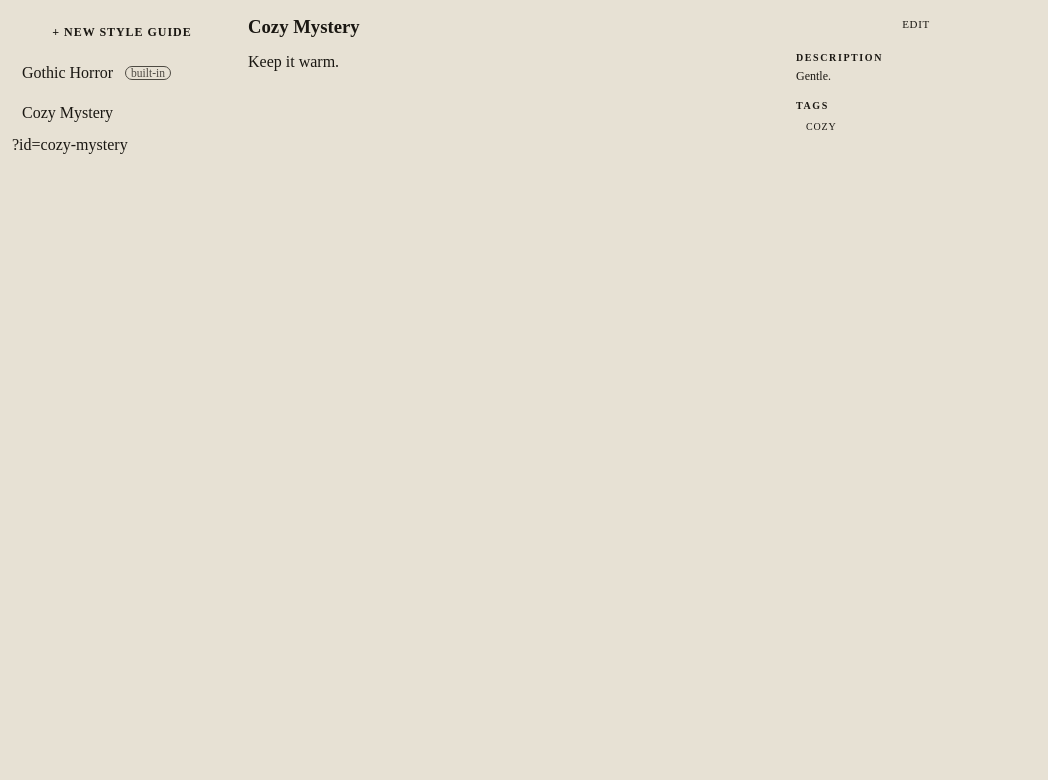
Test: a Cancel reload refusal preserves the style draft and reports the failure
Click the button "Edit".
click(916, 24)  # box x1=796 y1=12 x2=1036 y2=36
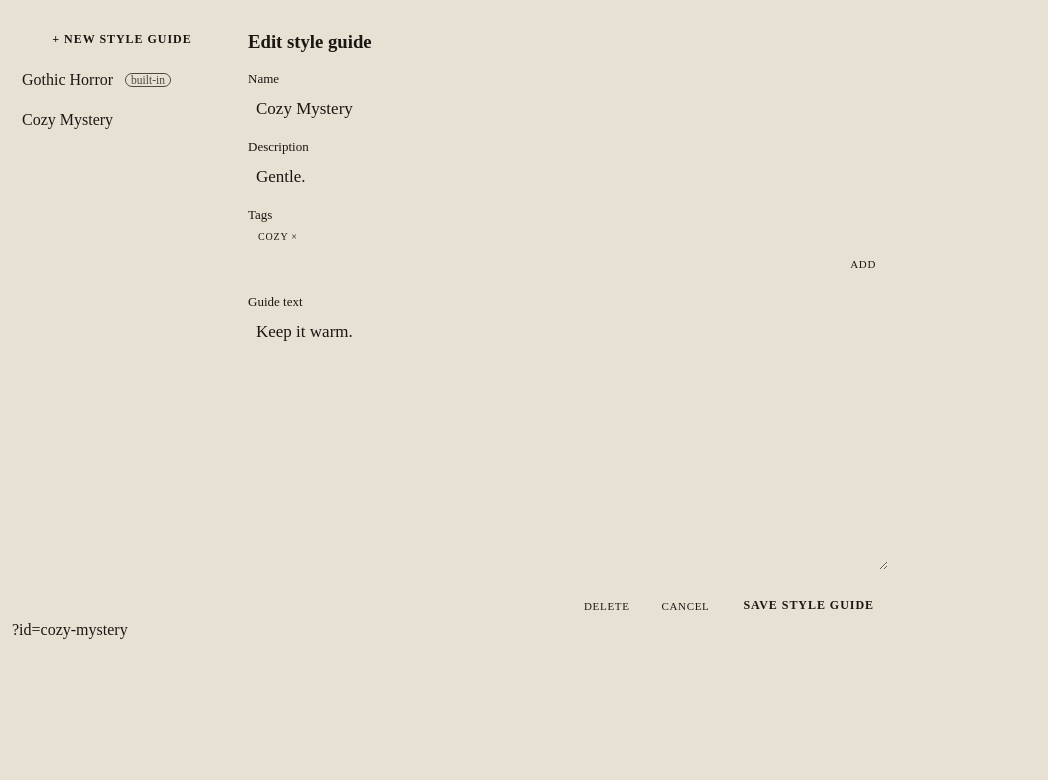
Replace the text in the field labelled "Name" with "Realm draft" at (568, 109), box x1=248 y1=91 x2=888 y2=127
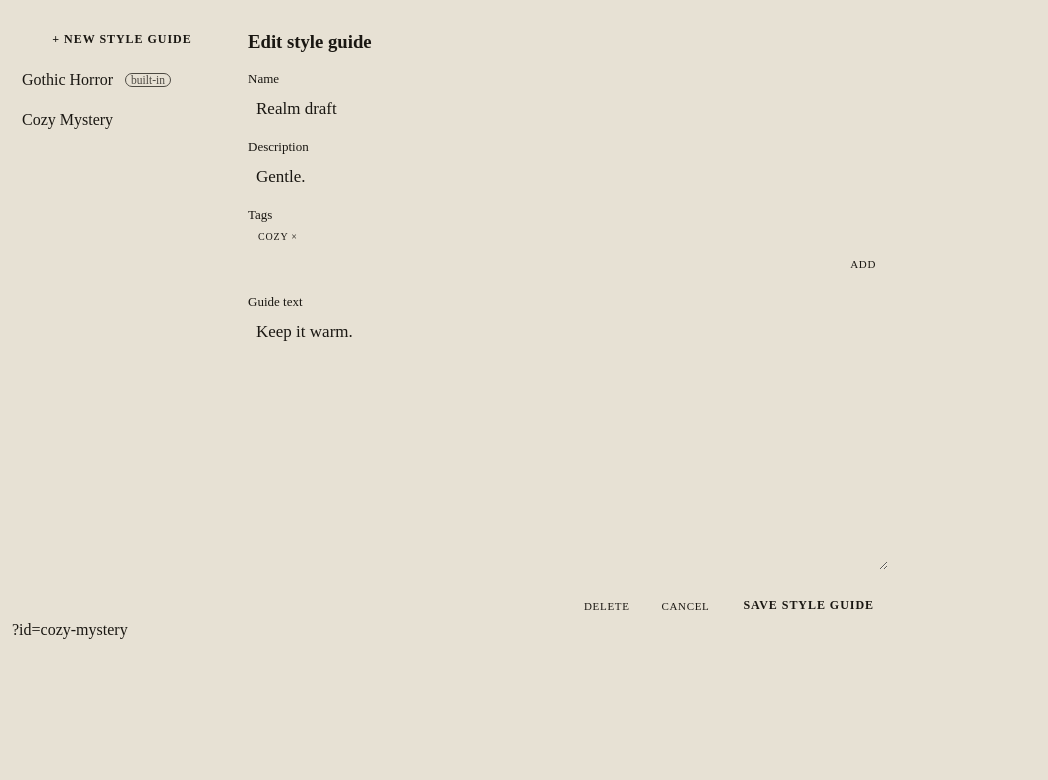
Click the button "Cancel".
click(686, 606)  # box x1=650 y1=590 x2=722 y2=621
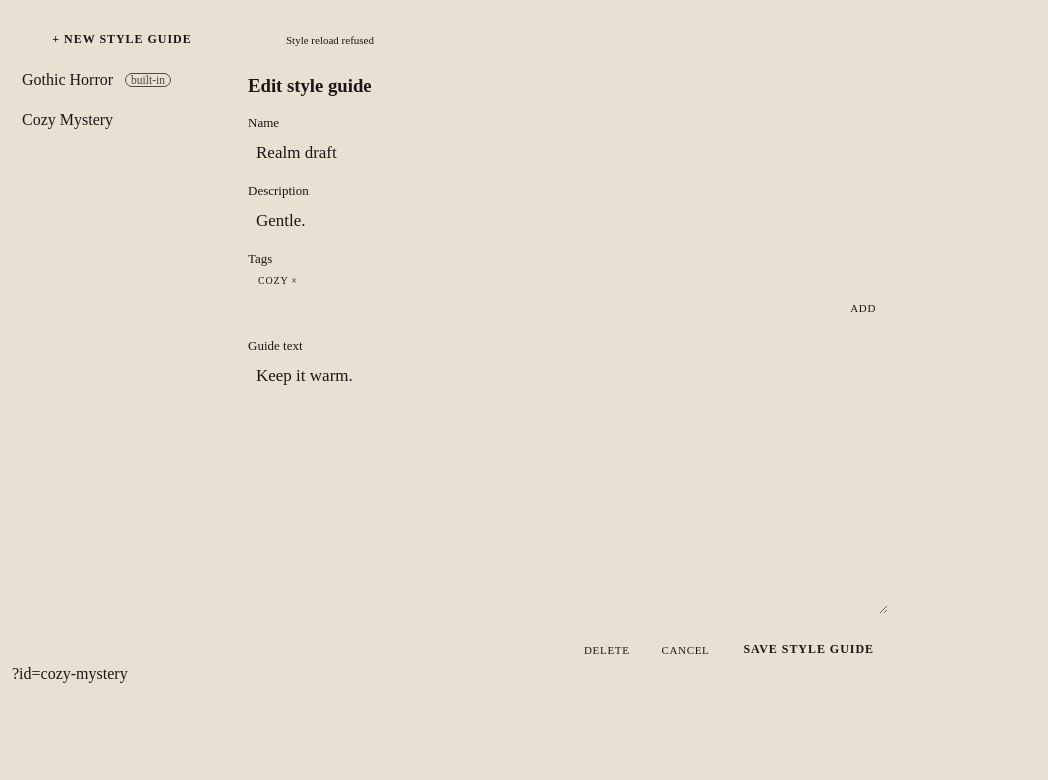
Expected: the text "Style reload refused" is shown, x1=286 y1=34 x2=374 y2=46
